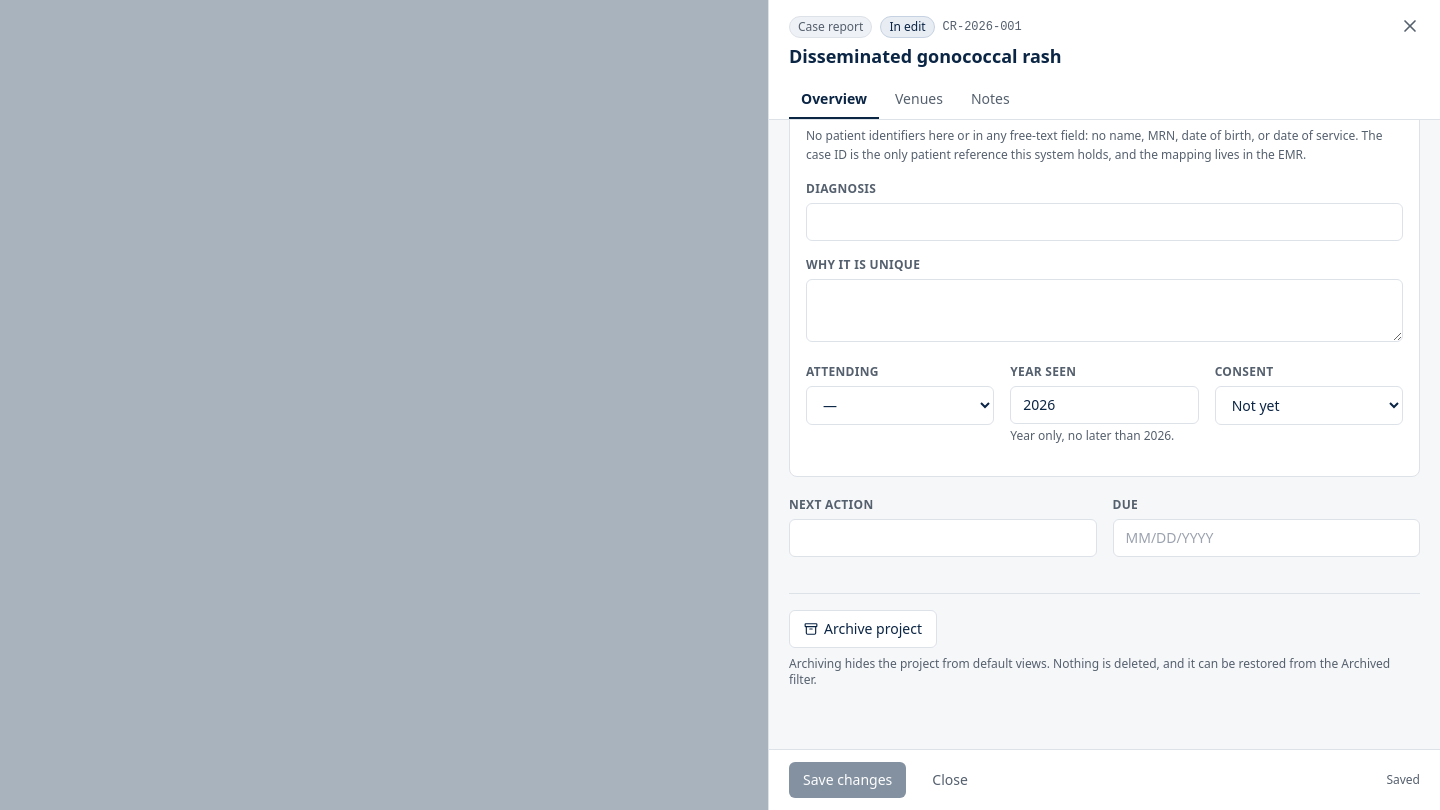
Test case: refusing to save a project with no authors › refuses a year seen in the future and says so
(page scrolled)
Replace the text in the number field with "2099" at [1104, 405], box [1010,386,1199,424]
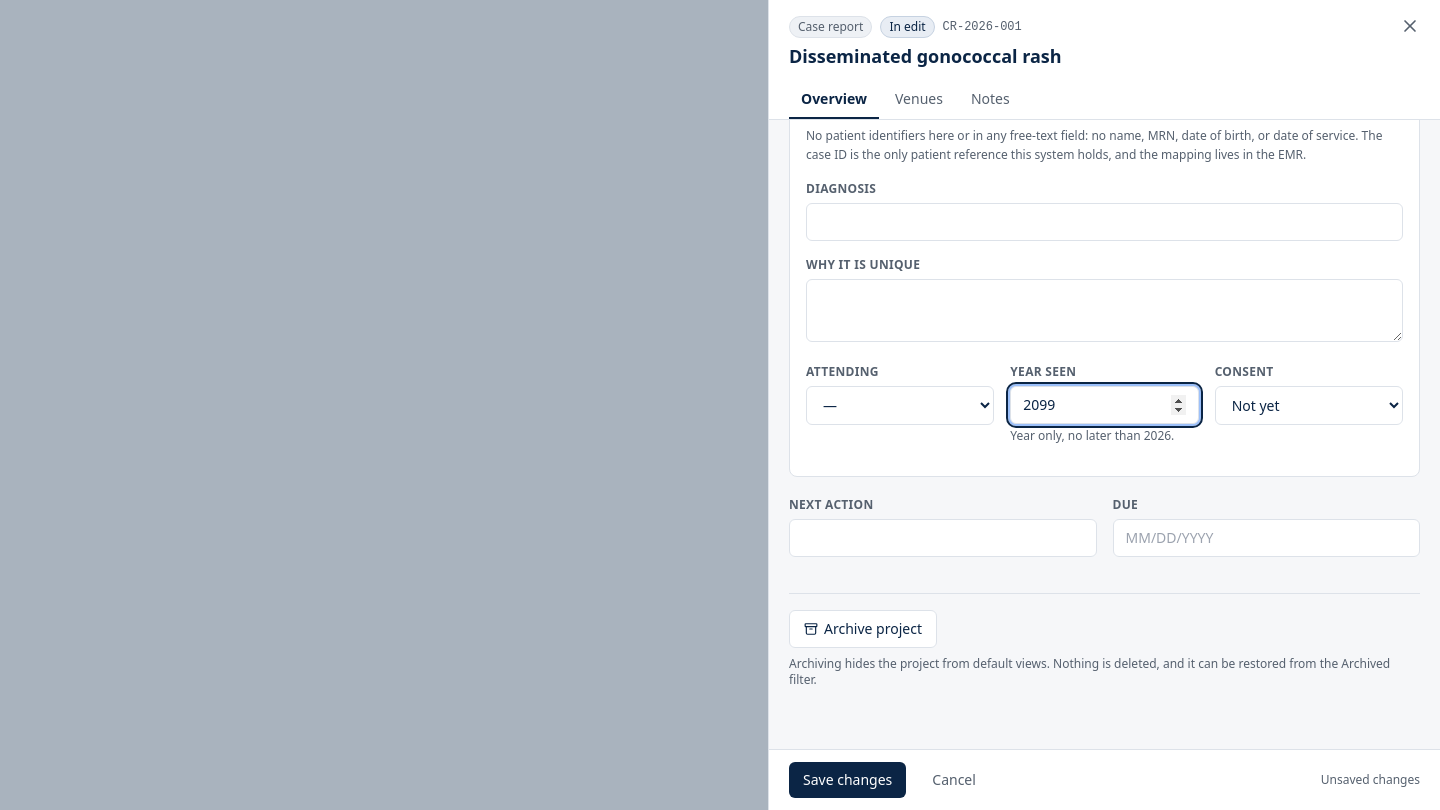
Click the button "Save changes" at [848, 780], box [789,762,906,798]
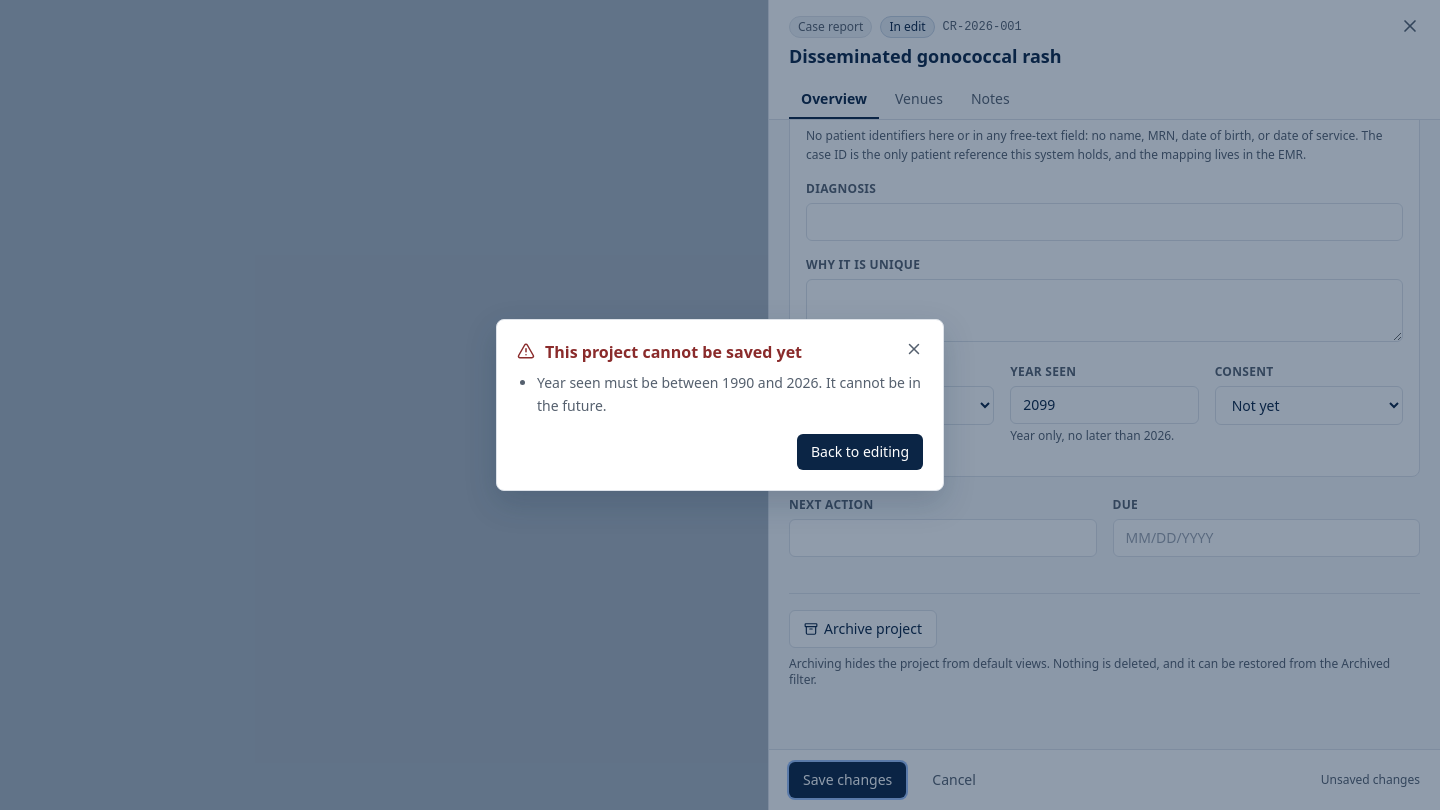
Now the list item "cannot be in the future" is shown, box [537,373,921,415]
